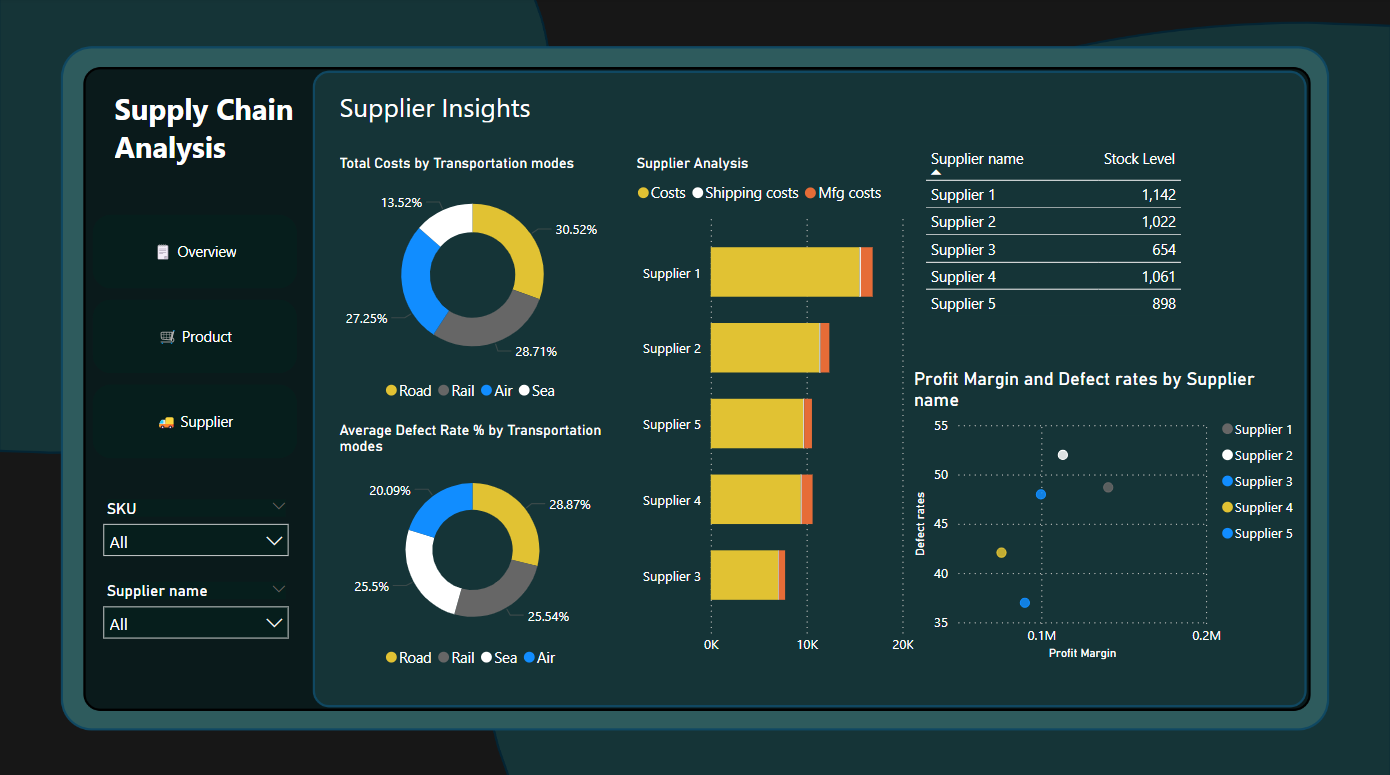

Layout of this report page (visuals, bound fields, positions):
{"tool":"powerbi","page":{"name":"🚚 Supplier","canvas":[1280,720],"ordinal":2},"visuals":[{"type":"donutChart","fields":{"Category":["supply_chain_data.Transportation modes"],"Y":["_Measures.Total Costs"]},"box":[308.6,144.3,254.3,235.7],"z":0},{"type":"donutChart","fields":{"Category":["supply_chain_data.Transportation modes"],"Y":["_Measures.Average Defect Rate %"]},"box":[308.6,390,254.3,235.7],"z":1000},{"type":"barChart","title":"Supplier Analysis","fields":{"Category":["supply_chain_data.Supplier name"],"Y":["Sum(supply_chain_data.Costs)","Sum(supply_chain_data.Shipping costs)","Sum(supply_chain_data.Mfg costs)"]},"box":[581.4,144.3,264.3,468.6],"z":2000},{"type":"tableEx","fields":{"Values":["supply_chain_data.Supplier name","_Measures.Stock Level"]},"box":[845.7,131.4,338.6,172.9],"z":3000},{"type":"scatterChart","fields":{"X":["Sum(supply_chain_data.Profit Margin)"],"Series":["supply_chain_data.Supplier name"],"Y":["Sum(supply_chain_data.Defect rates)"]},"box":[835.7,340,367.1,272.9],"z":4000},{"type":"textbox","box":[308.3,78.3,313.3,41.7],"z":5000},{"type":"pageNavigator","box":[87.1,200,188.6,225.7],"z":6000},{"type":"slicer","fields":{"Values":["supply_chain_data.SKU"]},"box":[86.7,456.7,190,63.3],"z":7000},{"type":"slicer","fields":{"Values":["supply_chain_data.Supplier name"]},"box":[86.7,531.7,190,63.3],"z":8000},{"type":"textbox","box":[101.7,78.3,175,105],"z":9000}]}

Visuals, with their boxes on the page's 1280x720 design canvas (x1, y1, x2, y2). These are canvas units, not pixel positions in the 1390x775 screenshot, which may show the page scaled, cropped or inside an application window:
donutChart - supply_chain_data.Transportation modes x _Measures.Total Costs: [left=309, top=144, right=563, bottom=380]
donutChart - supply_chain_data.Transportation modes x _Measures.Average Defect Rate %: [left=309, top=390, right=563, bottom=626]
"Supplier Analysis" barChart: [left=581, top=144, right=846, bottom=613]
tableEx - supply_chain_data.Supplier name x _Measures.Stock Level: [left=846, top=131, right=1184, bottom=304]
scatterChart - Sum(supply_chain_data.Profit Margin) x supply_chain_data.Supplier name: [left=836, top=340, right=1203, bottom=613]
textbox: [left=308, top=78, right=622, bottom=120]
pageNavigator: [left=87, top=200, right=276, bottom=426]
slicer - supply_chain_data.SKU: [left=87, top=457, right=277, bottom=520]
slicer - supply_chain_data.Supplier name: [left=87, top=532, right=277, bottom=595]
textbox: [left=102, top=78, right=277, bottom=183]
